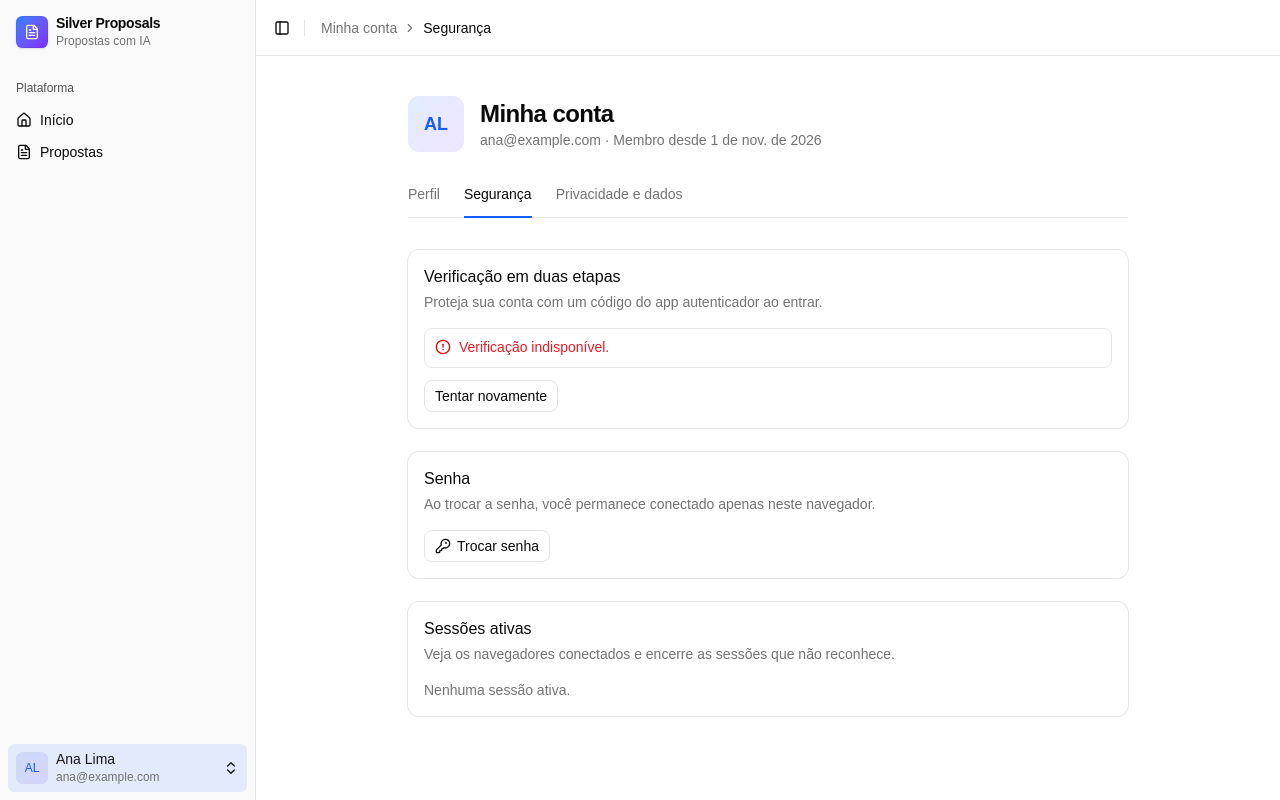
SecurityPage › retries unavailable settings and reports a failed password verification
expect the text "Verificação indisponível." is shown: met, box 459,339 -> 609,355
Click the button "Tentar novamente": point(491, 396) 424,380 -> 558,412
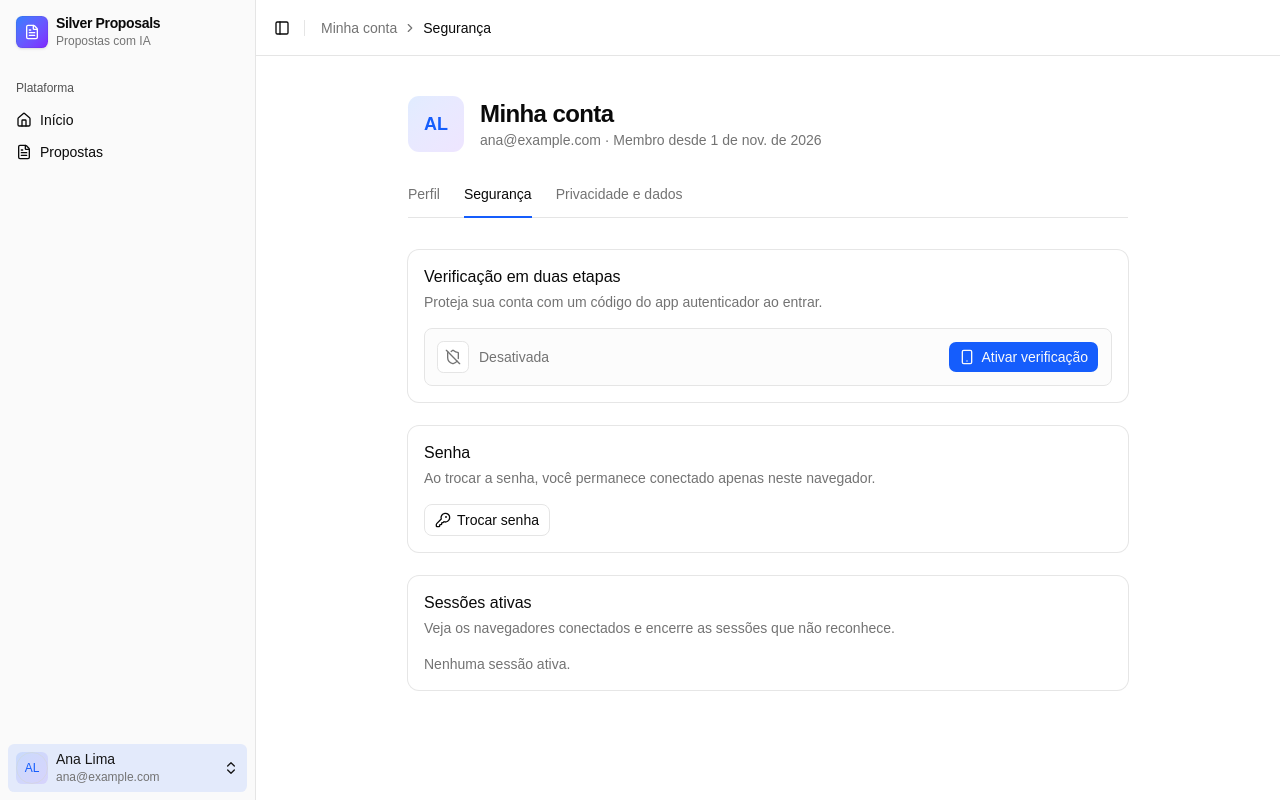
expect the text "Nenhuma sessão ativa." is shown: met, box 424,656 -> 570,672
expect the text "Desativada" is shown: met, box 437,341 -> 549,373
Click the button "Trocar senha": point(487, 520) 424,504 -> 550,536
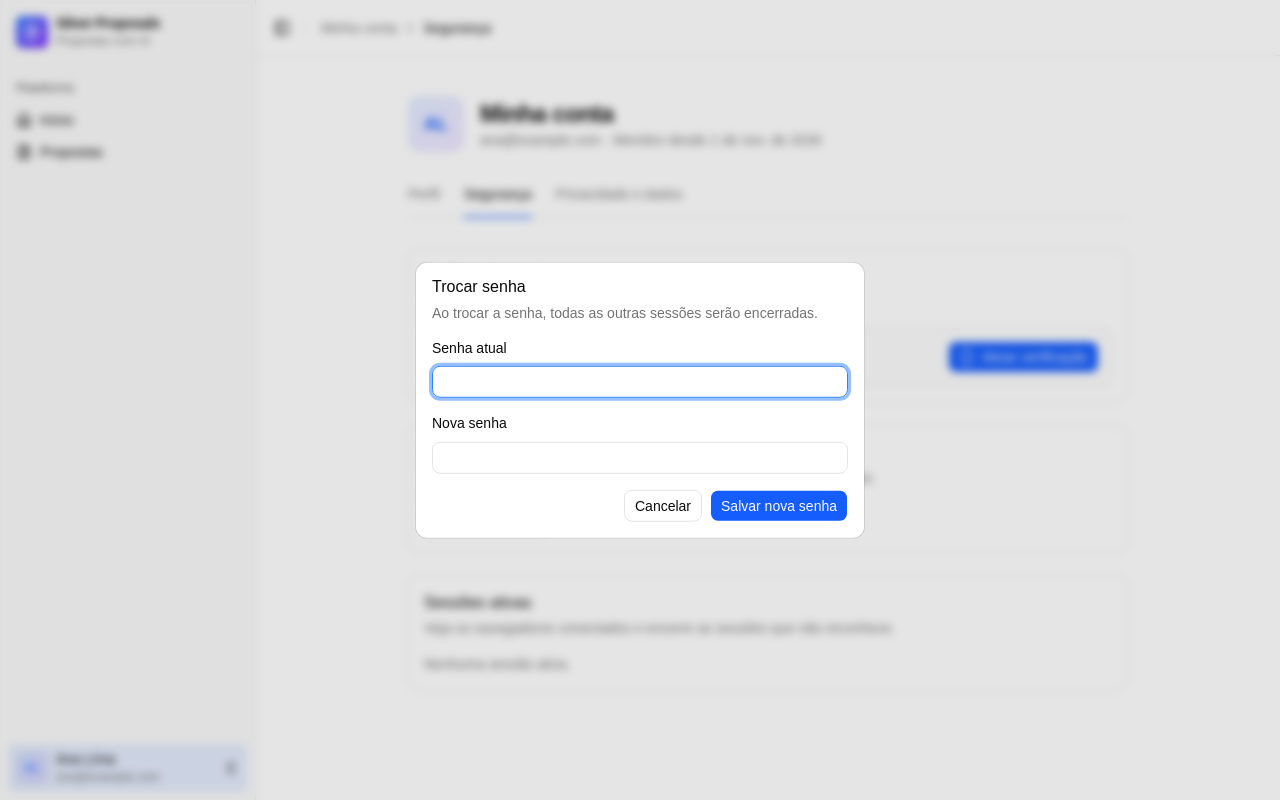
In the password field labelled "Senha atual": point(640, 382) 432,366 -> 848,398, type "senha errada"
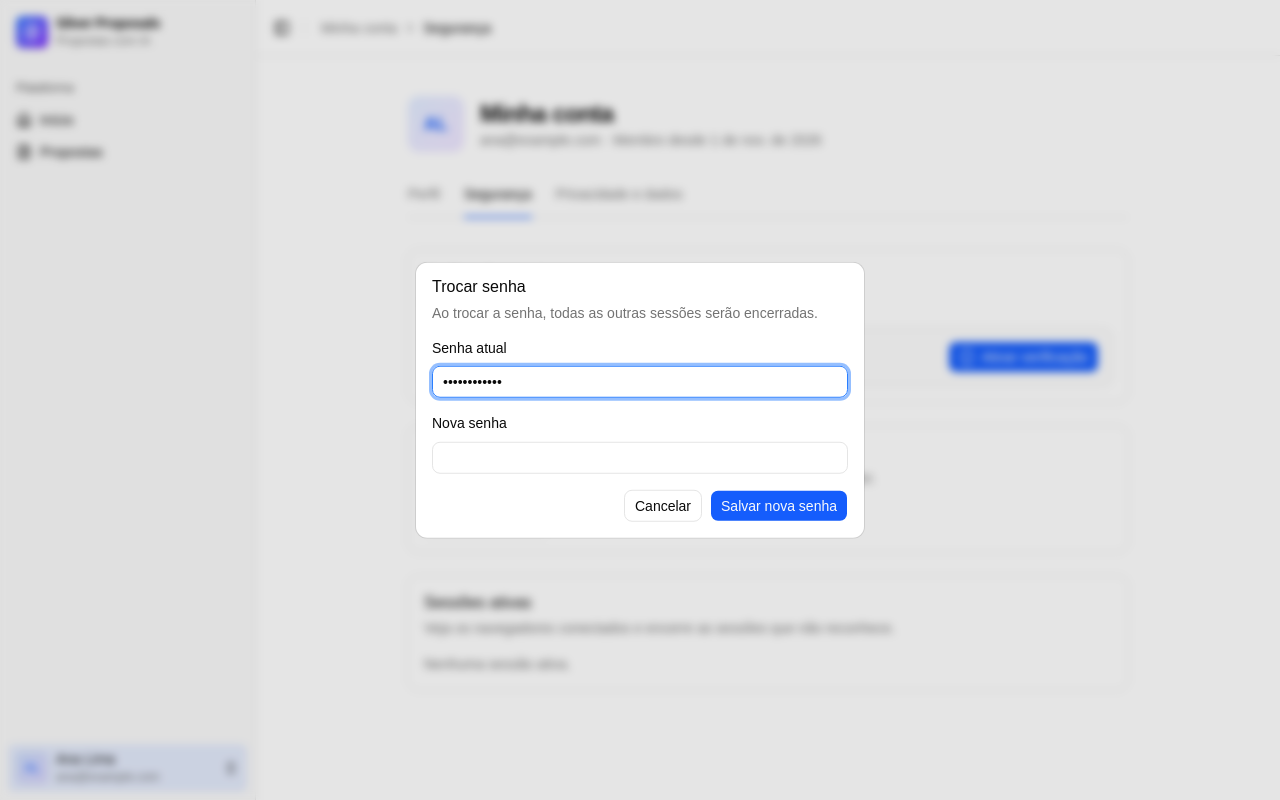
In the password field labelled "Nova senha": point(640, 457) 432,441 -> 848,473, type "nova senha longa"
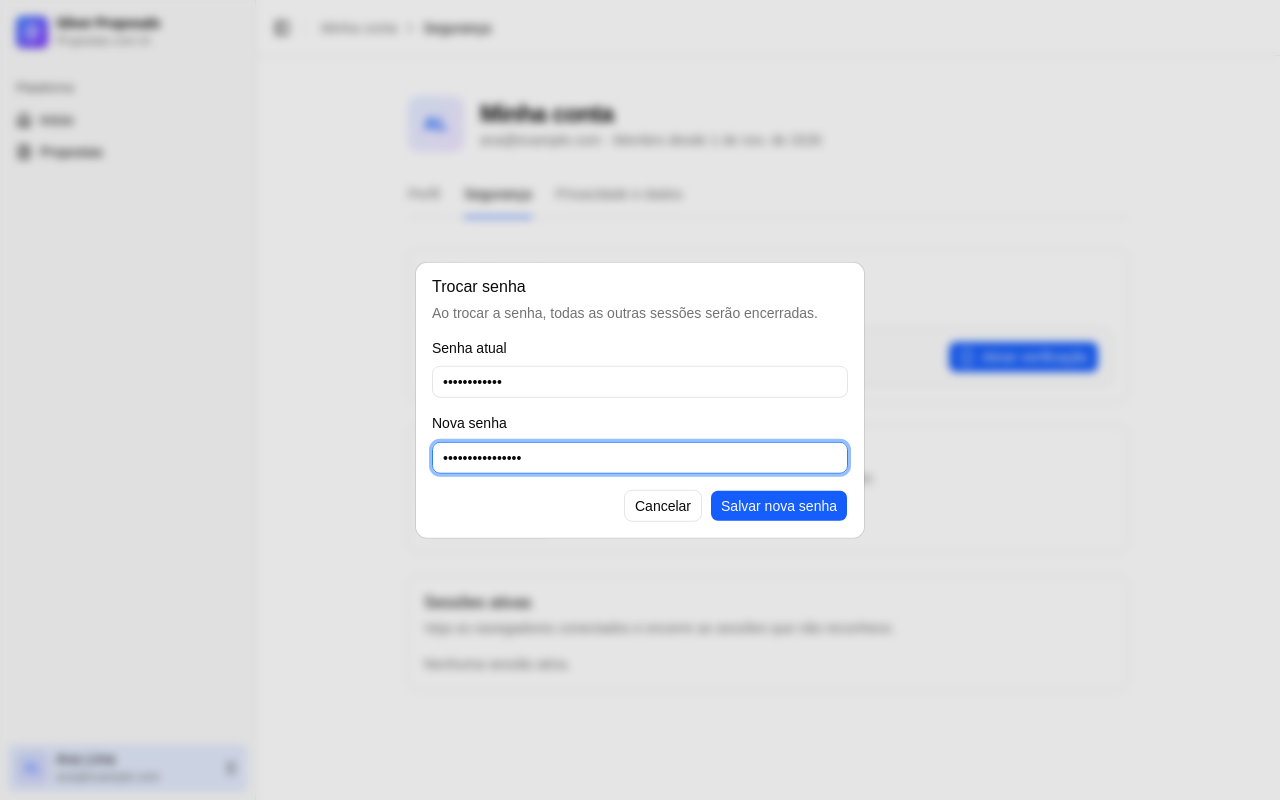
Click the button "Salvar nova senha": point(779, 505) 710,489 -> 848,521
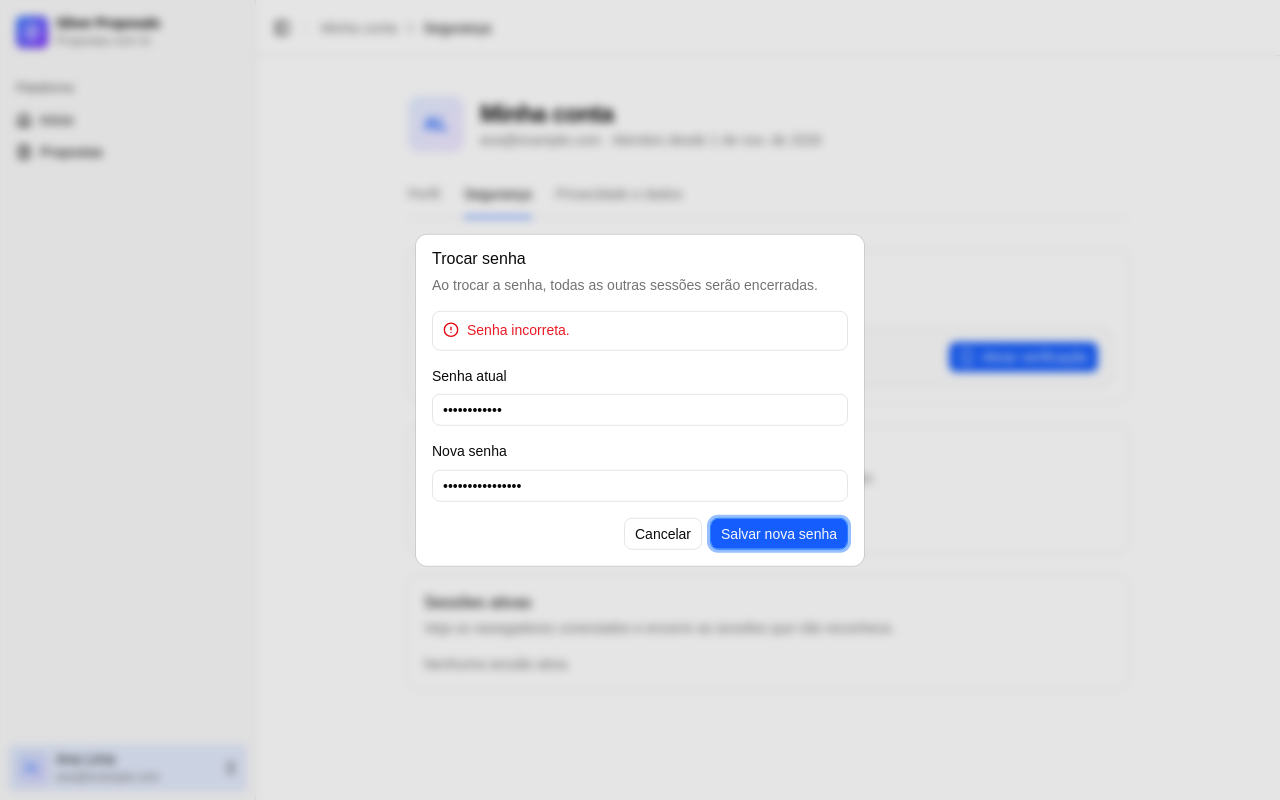
expect the text "Senha incorreta." is shown: met, box 467,322 -> 570,338
Click the button "Cancelar": point(663, 533) 624,517 -> 702,549
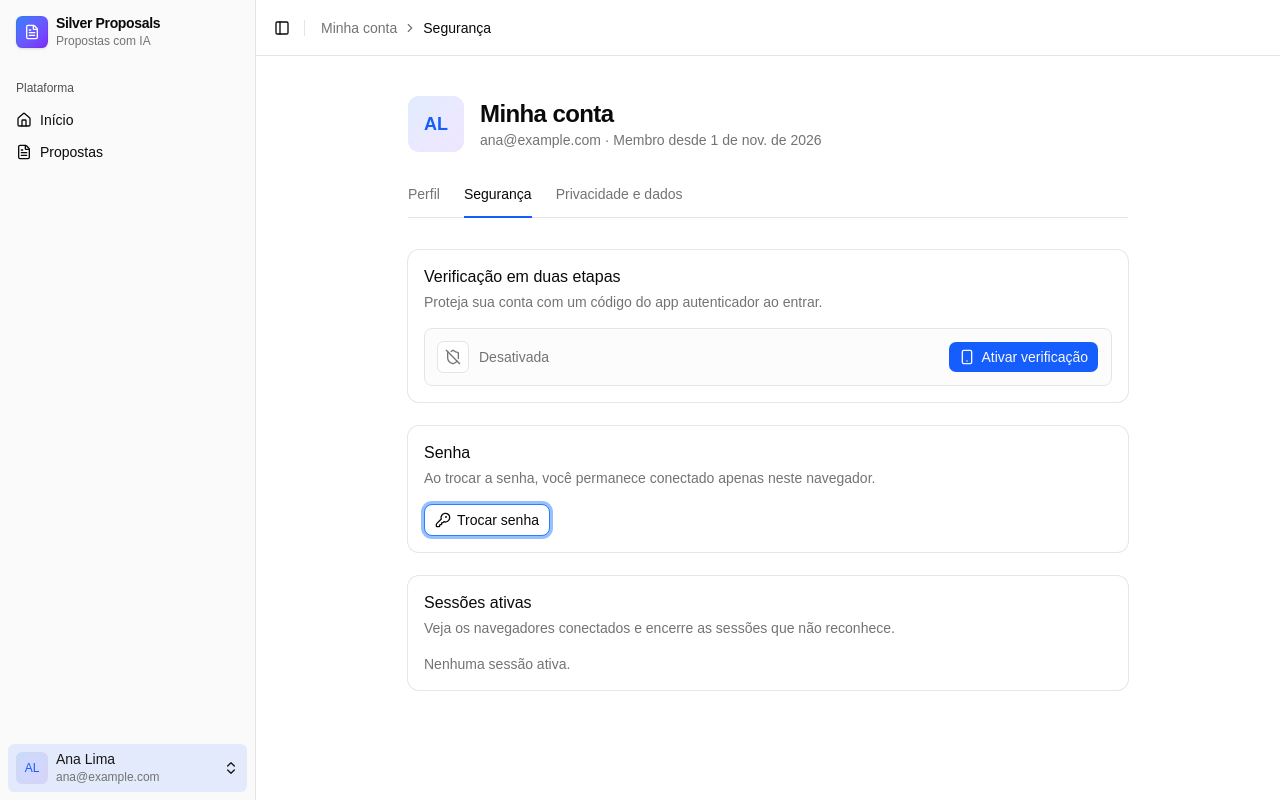
expect the dialog is gone: met
